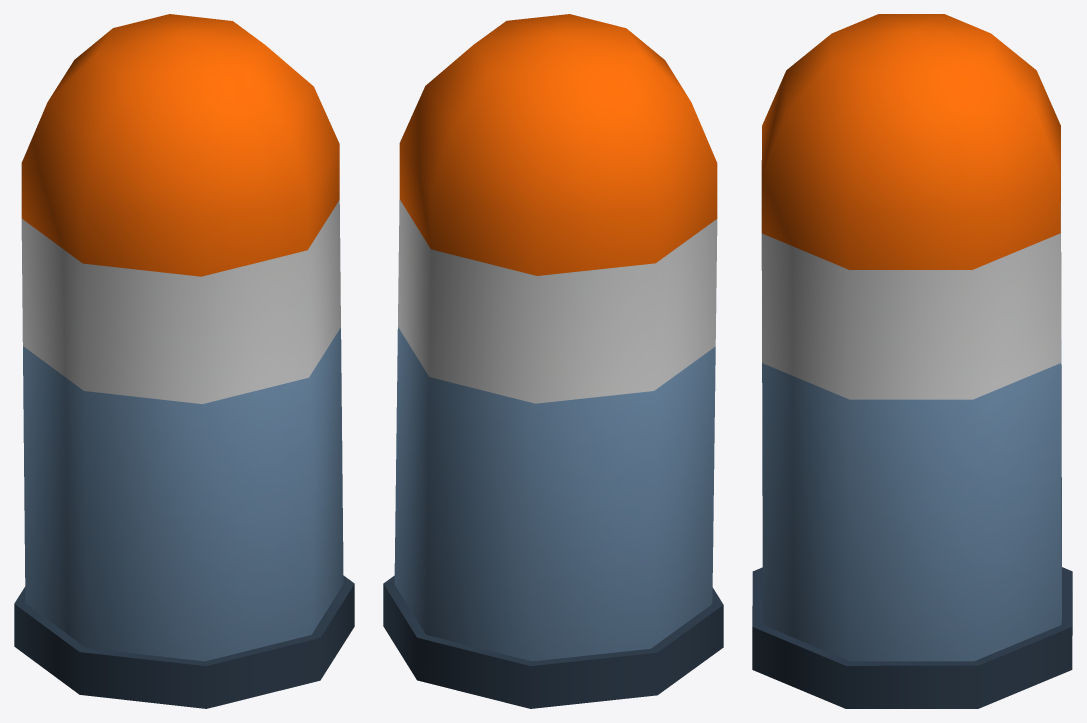
Rendered from grenade2_3.fbx.
3 renders of one model, left to right at view 1: azimuth 30°, elevation 25°; view 2: azimuth 150°, elevation 25°; view 3: azimuth 270°, elevation 25°, orthographic.
Visible parts, largest first — view 1: grenade2_3; view 2: grenade2_3; view 3: grenade2_3.
Boxes of the visible parts, x1,y1,x2,y2 form: grenade2_3: [14, 14, 354, 708]; grenade2_3: [383, 14, 723, 708]; grenade2_3: [752, 14, 1072, 708].
Size of the model in its own units: 12.64 by 26.5 by 12.64.
